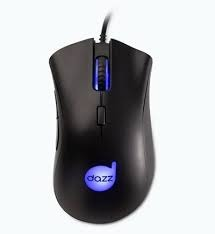mouse: (43, 34, 172, 221)
